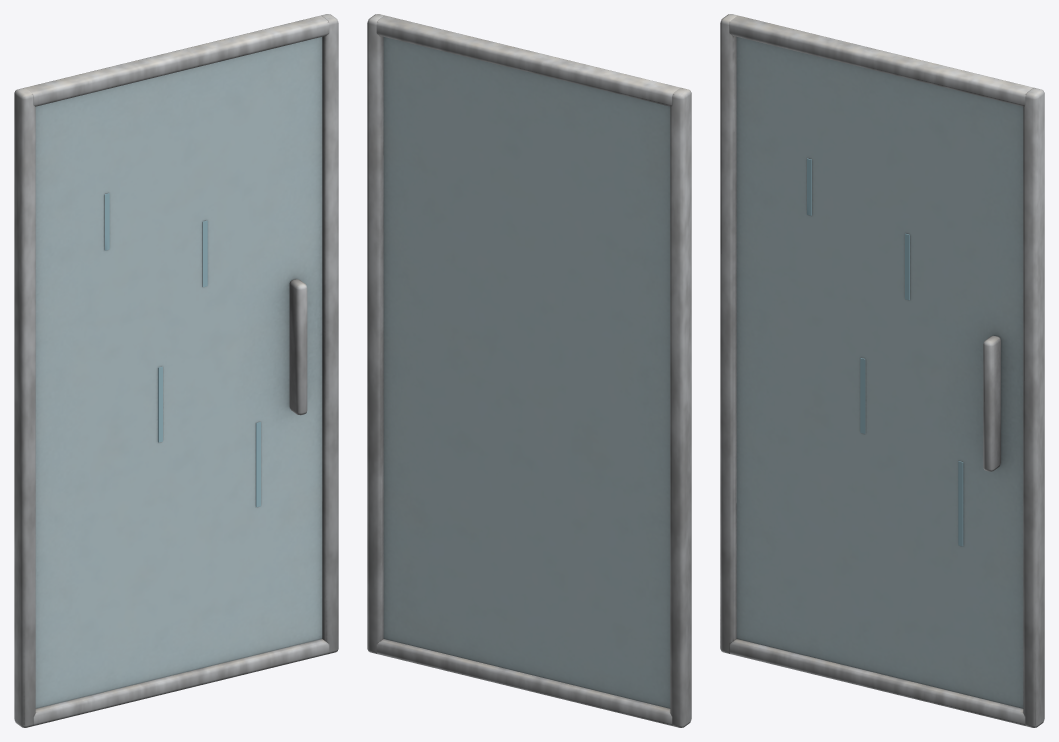
The model's file is shower_door.fbx.
The picture shows the model from 3 angles, left to right: view 1: azimuth 30°, elevation 25°; view 2: azimuth 150°, elevation 25°; view 3: azimuth 330°, elevation 25°; orthographic projection.
Parts seen in each view (by area): view 1: Slide, Body; view 2: Slide, Body; view 3: Slide, Body.
Part boxes in pixels (left/top/right/bottom): Slide: left=35, top=37, right=322, bottom=708; Body: left=14, top=14, right=338, bottom=727; Slide: left=383, top=37, right=670, bottom=708; Body: left=367, top=14, right=691, bottom=727; Slide: left=736, top=37, right=1023, bottom=708; Body: left=720, top=14, right=1044, bottom=727.
Size of the model in its own units: 3.56 by 6.8 by 0.32.
Materials: 1 (1 with a texture image).
